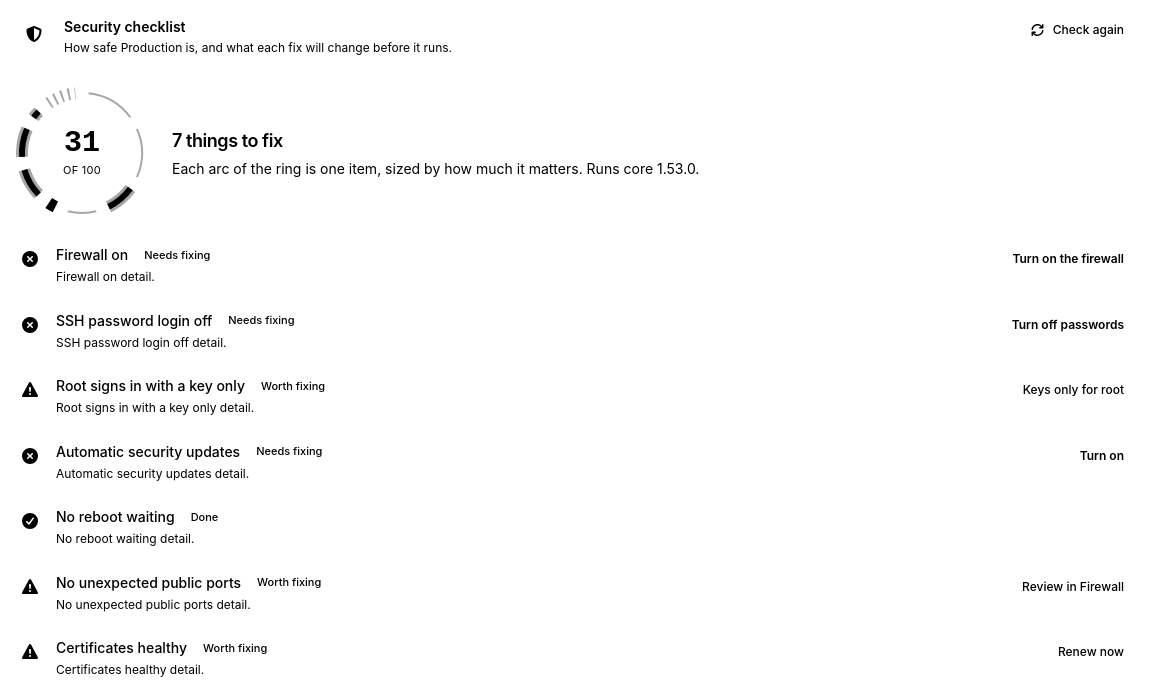
it: ChecklistCard › previews the SSH fix with the exact file, applies it and keeps it over a new connection
The width and height of the screenshot is (1152, 681).
Click the button "Turn off passwords" at (1068, 324), box [1000,310,1136,338]
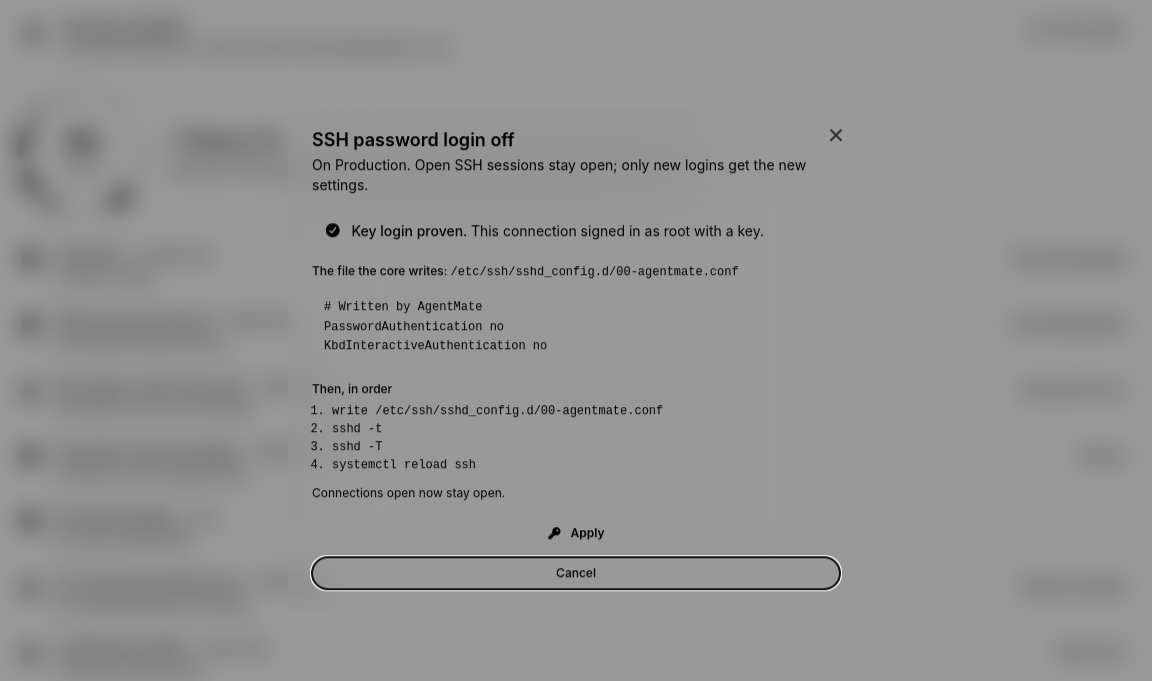
Now the text named "File contents" shows "PasswordAuthentication no", box [324,300,547,353]
Now the list named "Commands" shows "systemctl reload ssh", box [332,458,476,472]
Now the text "Key login proven." is shown, box [352,222,471,239]
Click the button "Apply" at (576, 533), box [312,517,840,549]
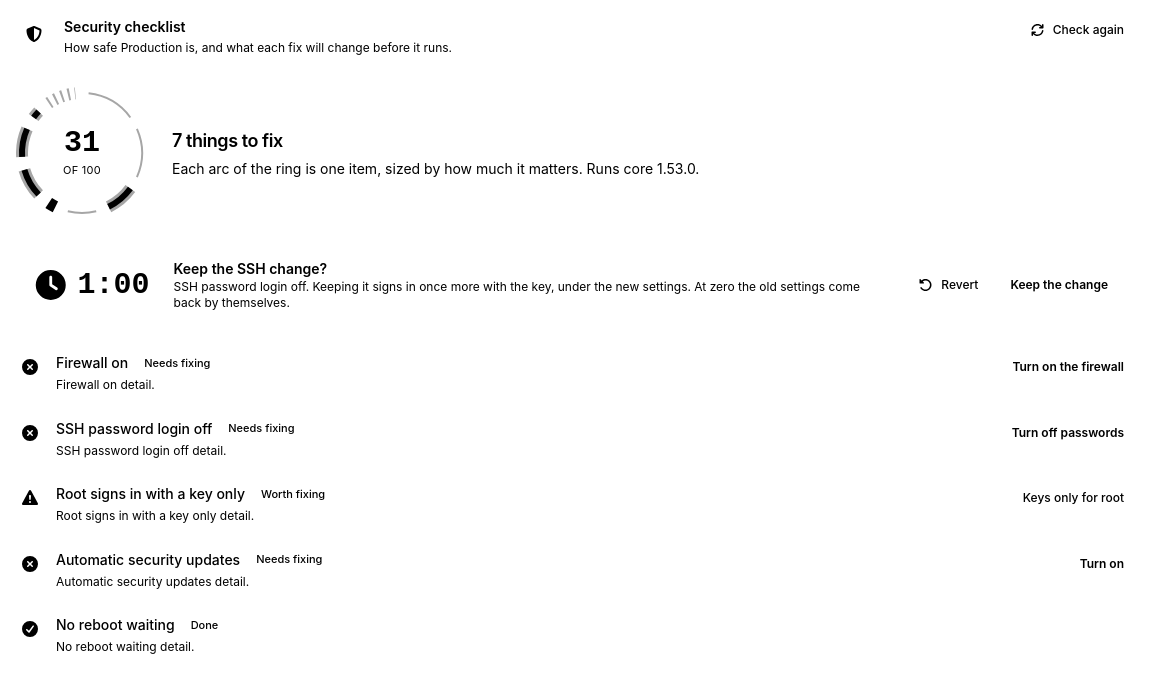
Now the heading "Keep the SSH change?" is shown, box [174,260,327,277]
Now the button "Turn off passwords" is disabled, box [1000,418,1136,446]
Click the button "Keep the change" at (1059, 285), box [998,271,1120,299]
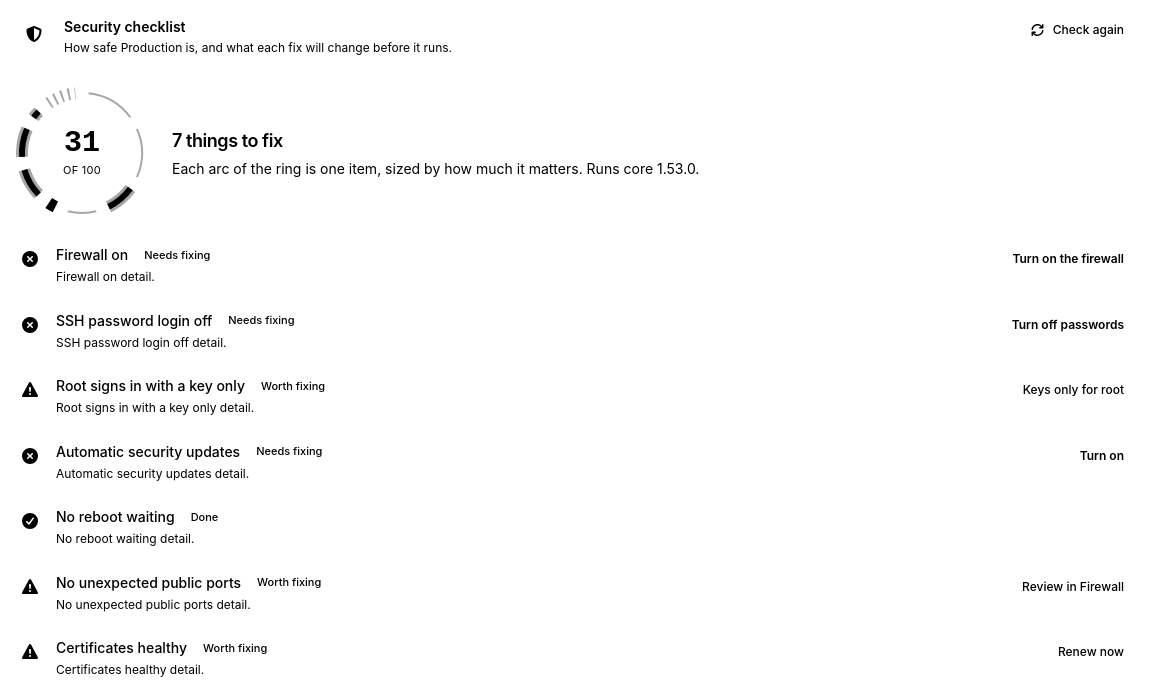
Now the heading "Keep the SSH change?" is gone
